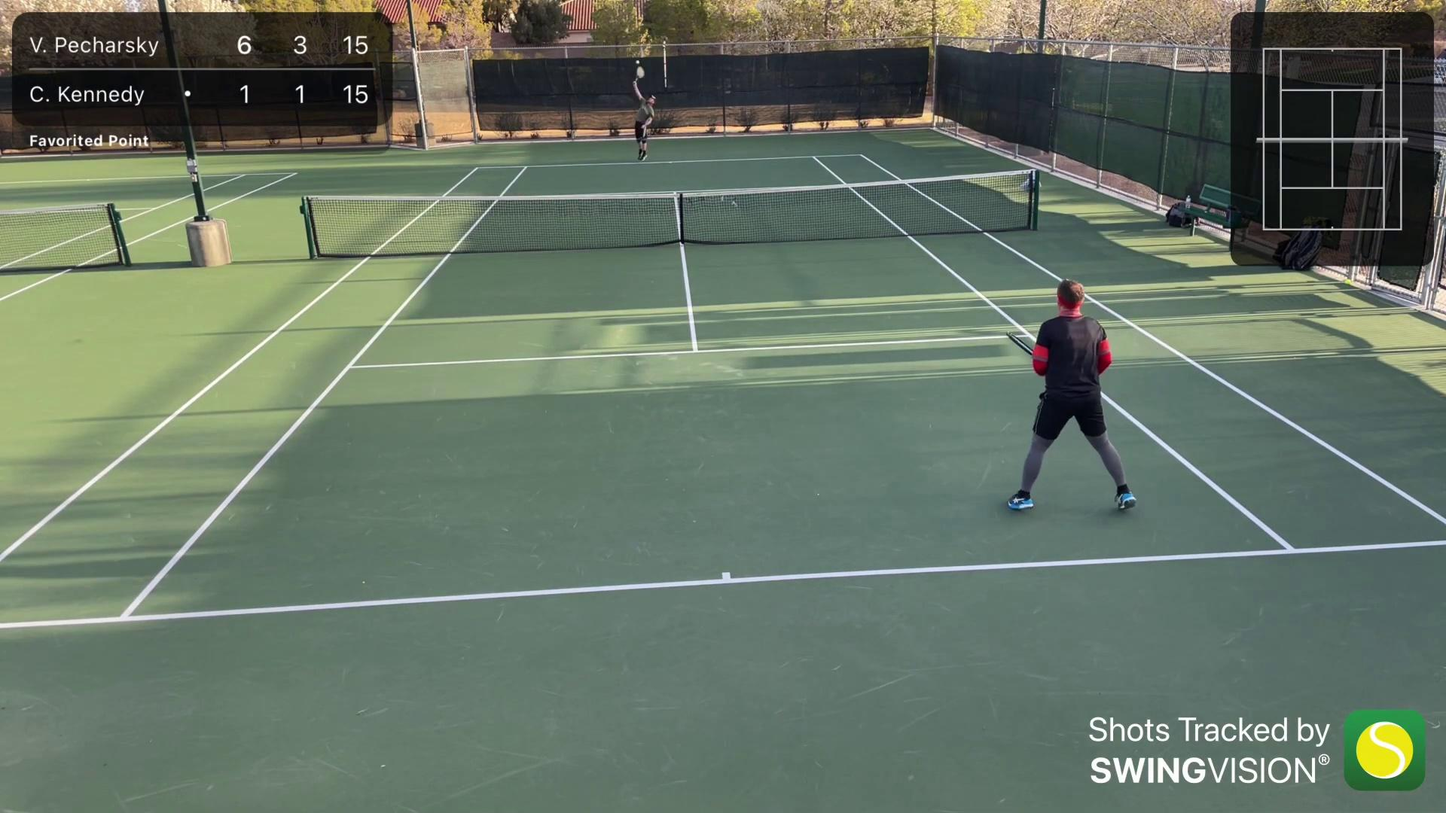ball: (634, 59, 642, 65)
